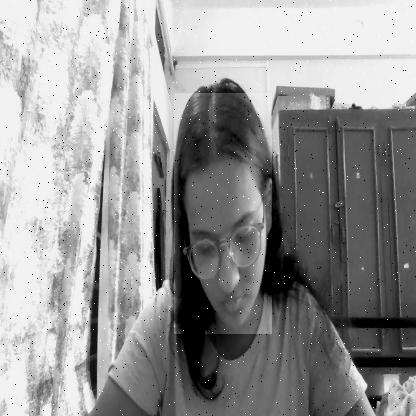Distracted: (174, 93, 272, 334)
